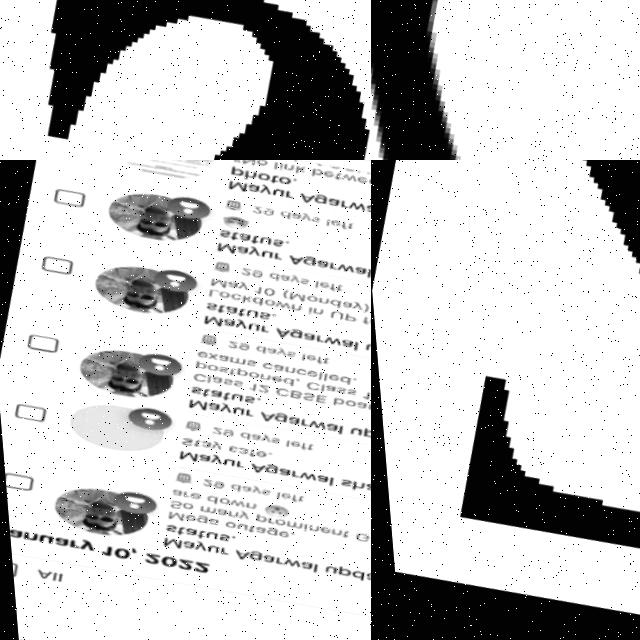0: (103, 546, 123, 562), (150, 556, 168, 570), (258, 291, 270, 301), (364, 397, 371, 407)
1: (91, 546, 103, 557), (248, 289, 258, 299), (354, 397, 364, 406), (241, 386, 250, 395)
2: (134, 553, 152, 567), (168, 560, 185, 573), (183, 563, 199, 576), (251, 387, 263, 398), (204, 429, 215, 439), (222, 343, 233, 352), (248, 209, 259, 218), (195, 481, 205, 490)
5: (246, 273, 258, 283)
9: (205, 483, 217, 493), (215, 431, 227, 441), (232, 345, 244, 355), (259, 211, 270, 221)
R: (371, 0, 640, 160)
S: (0, 0, 371, 160)
Z: (376, 160, 640, 637)
